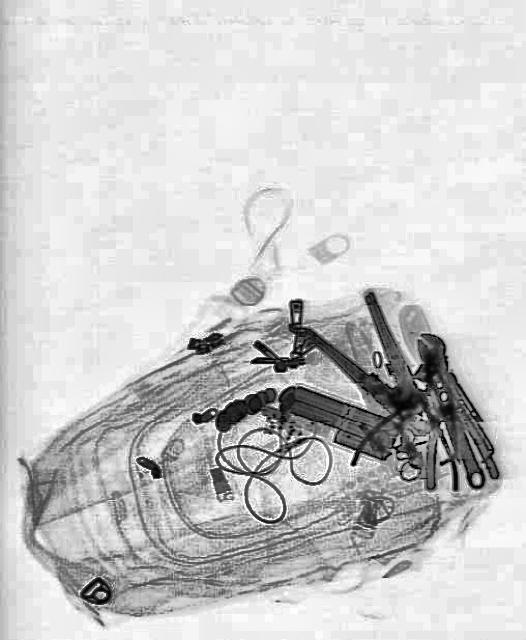Pliers: (292, 272, 445, 446), (348, 358, 476, 490)
Wrench: (412, 324, 494, 492)
